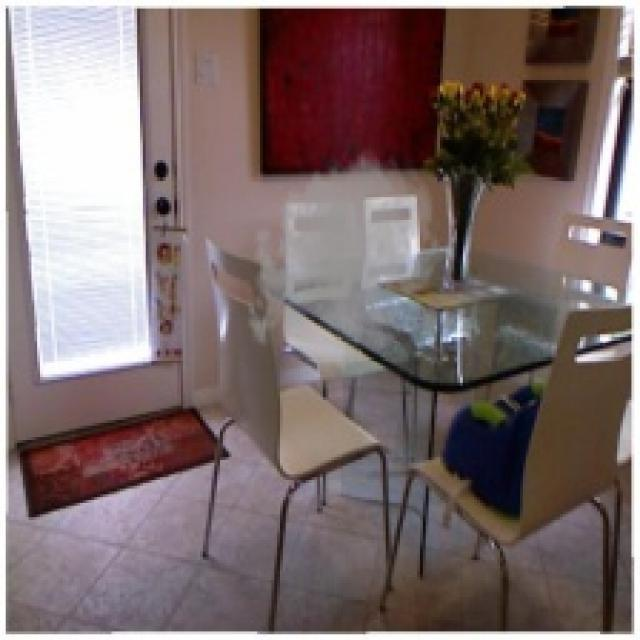Smoke: (243, 146, 454, 377)
